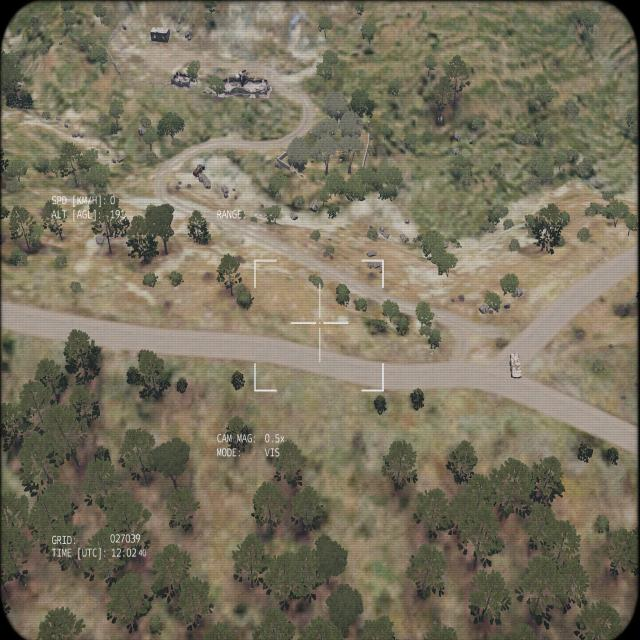apc: (509, 351, 523, 379)
